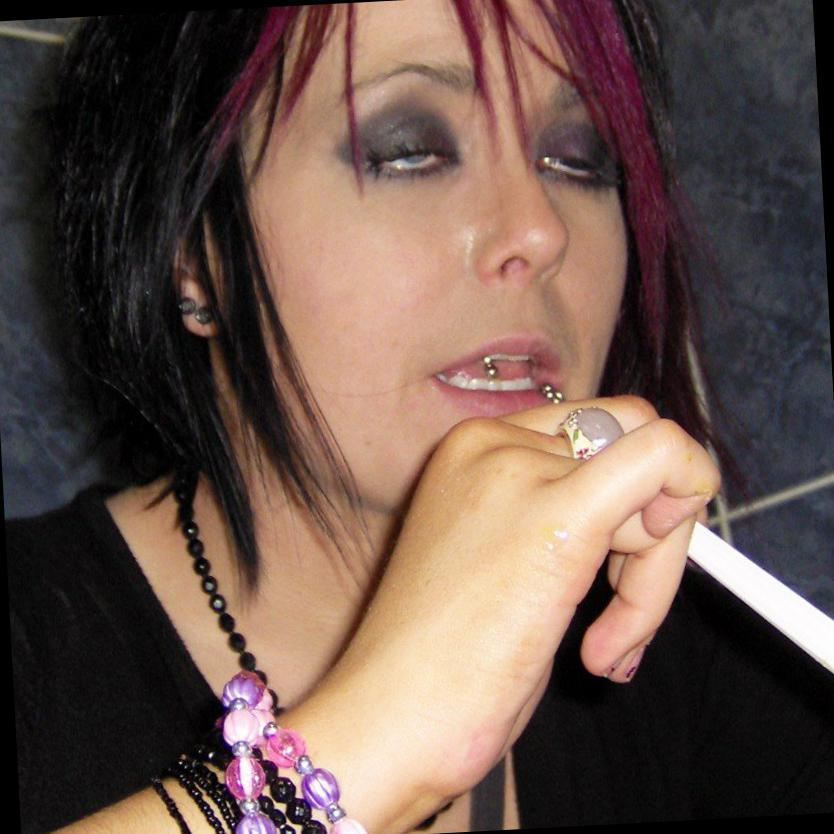Drunk: (292, 4, 621, 452)
